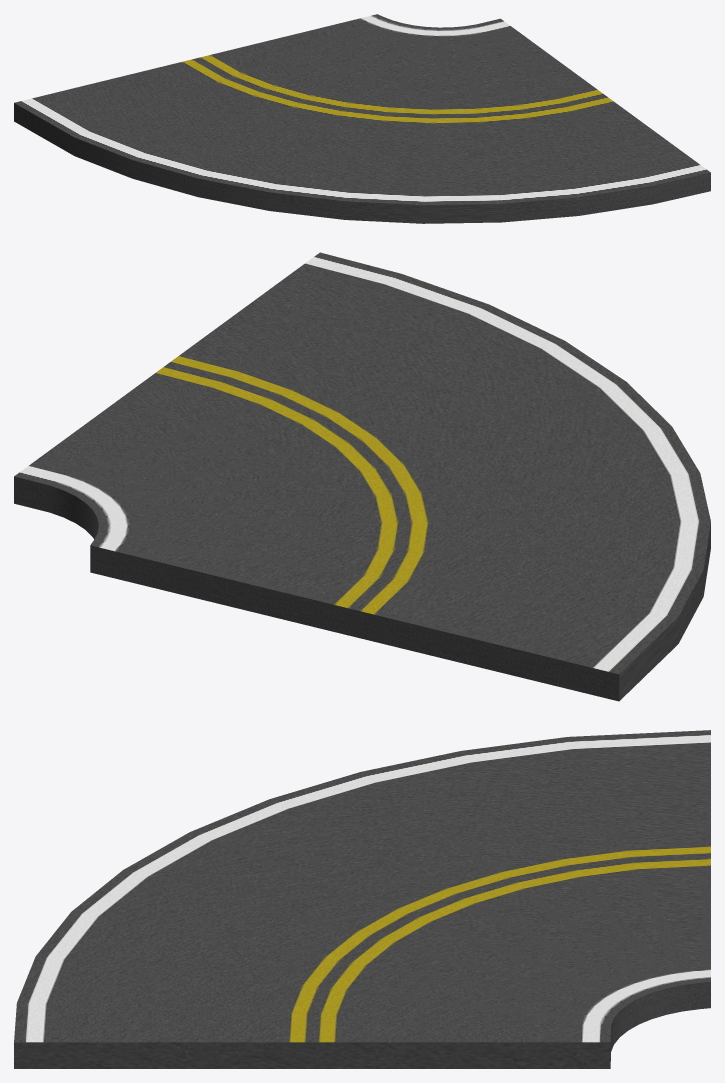
The model's file is right_track.fbx.
The picture shows the model from 3 angles, top to bottom: view 1: azimuth 30°, elevation 25°; view 2: azimuth 150°, elevation 25°; view 3: azimuth 270°, elevation 25°; orthographic projection. The views are drawn at different scales.
Parts seen in each view (by area): view 1: pCube2; view 2: pCube2; view 3: pCube2.
Part boxes in pixels (x1,y1,x2,y2): pCube2: (14,14,710,223); pCube2: (14,252,710,701); pCube2: (14,730,710,1068).
Bounding box in the file's own units: 665 × 26.26 × 627.
1 material, 1 textured.
